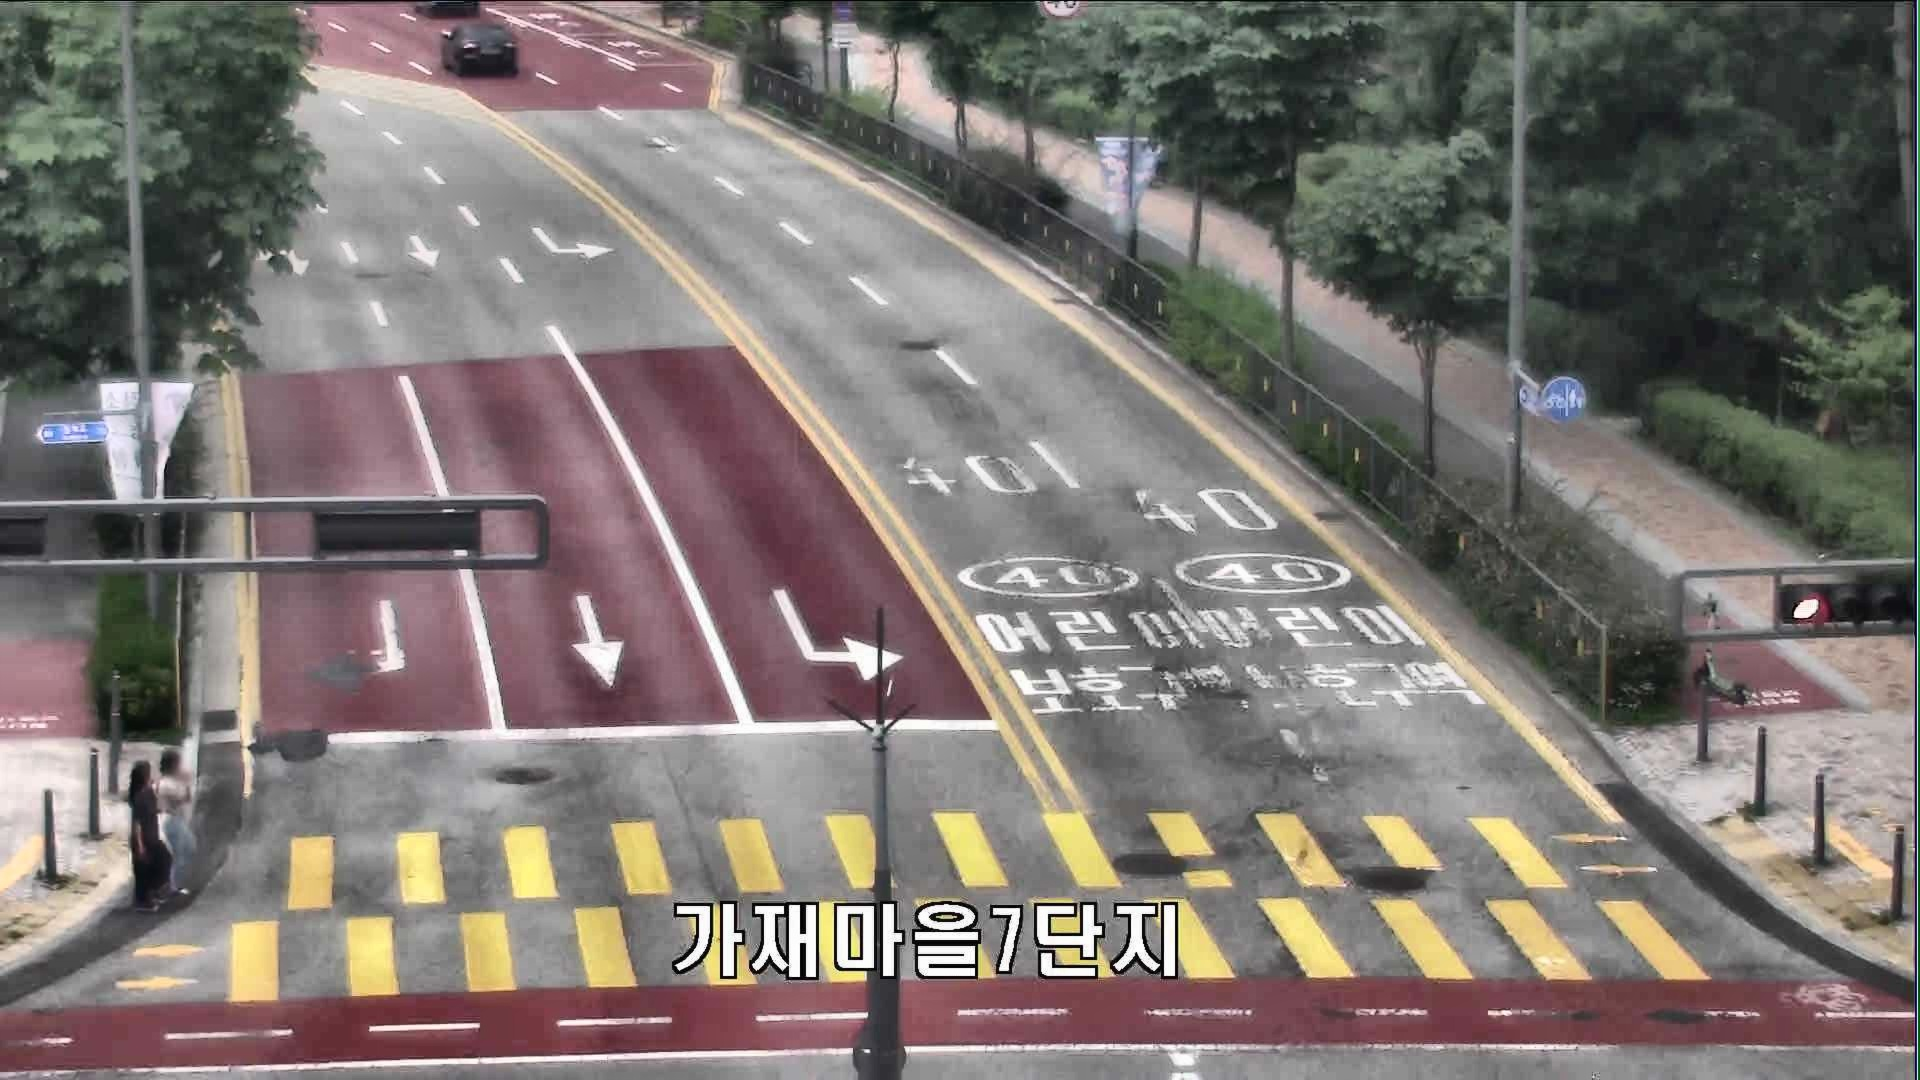crosswalk: (117, 756, 175, 920), (152, 745, 203, 898)
